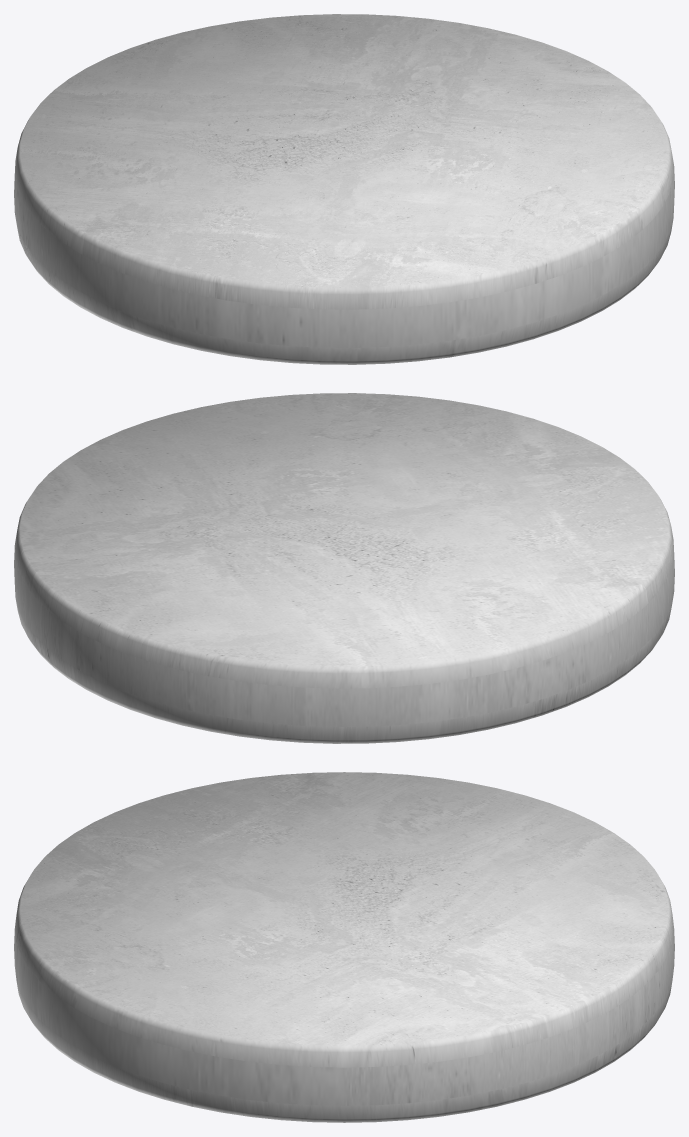
File: B_Item.03.glb
3 renders of one model, top to bottom at view 1: azimuth 30°, elevation 25°; view 2: azimuth 150°, elevation 25°; view 3: azimuth 270°, elevation 25°, orthographic.
Parts seen in each view (by area): view 1: B.Item.03; view 2: B.Item.03; view 3: B.Item.03.
Part boxes in pixels (x1,y1,x2,y2): B.Item.03: (14, 14, 674, 364); B.Item.03: (14, 393, 674, 743); B.Item.03: (14, 772, 674, 1122).
Bounding box in the file's own units: 0.1563 × 0.02 × 0.1563.
1 material, 1 textured.
